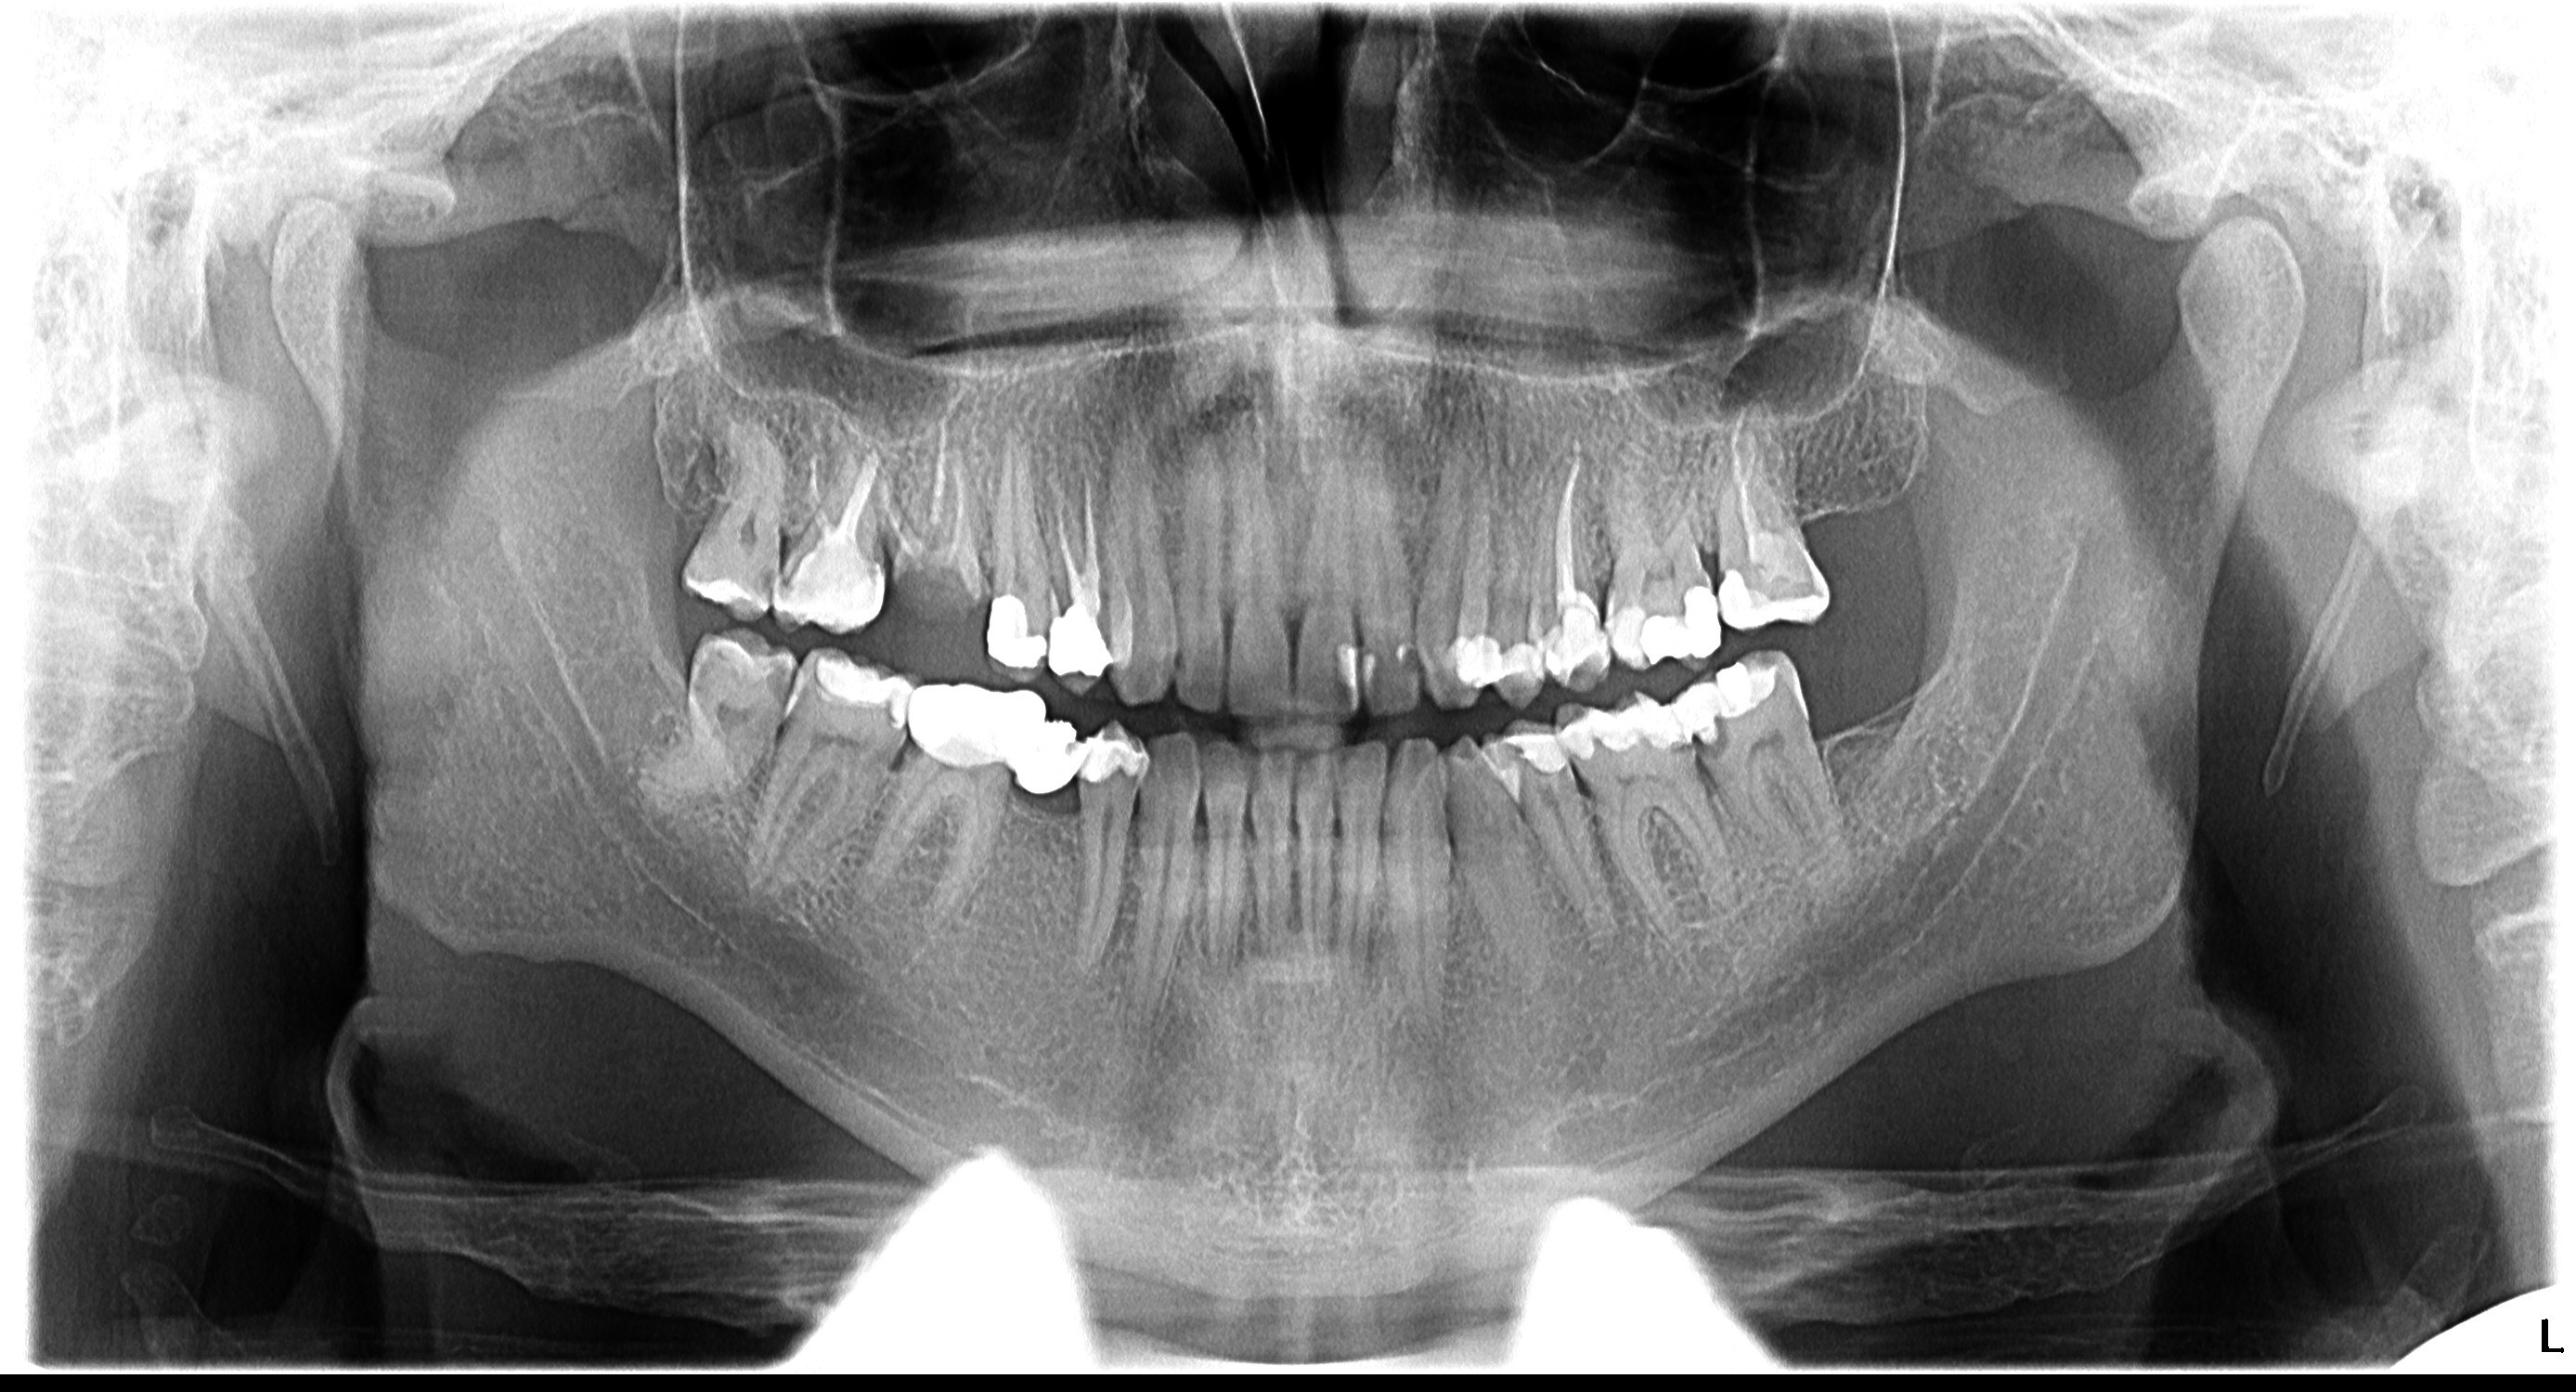CAR: (819, 329, 2569, 1099), (795, 351, 2501, 1121), (838, 261, 2576, 854), (673, 298, 2107, 984), (555, 310, 1752, 996), (418, 331, 1358, 1111), (387, 237, 1370, 862), (349, 285, 1149, 998), (344, 250, 1134, 862)
END: (736, 146, 2338, 742), (822, 134, 2576, 669), (483, 166, 1589, 758), (379, 141, 1360, 696), (337, 166, 1228, 691)
OBT: (778, 288, 2573, 1035), (724, 295, 2398, 1071), (690, 324, 2287, 1111), (728, 252, 2470, 912), (796, 243, 2576, 886), (723, 243, 2348, 929), (677, 273, 2221, 975), (819, 226, 2576, 825), (668, 283, 2050, 982), (630, 288, 2009, 987), (493, 331, 1651, 1118), (483, 249, 1603, 936), (445, 267, 1504, 939), (356, 271, 1278, 1005), (334, 207, 1237, 847)
PRR: (320, 266, 1428, 1080)
